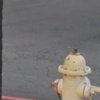Hydrant: (49, 42, 97, 100)
